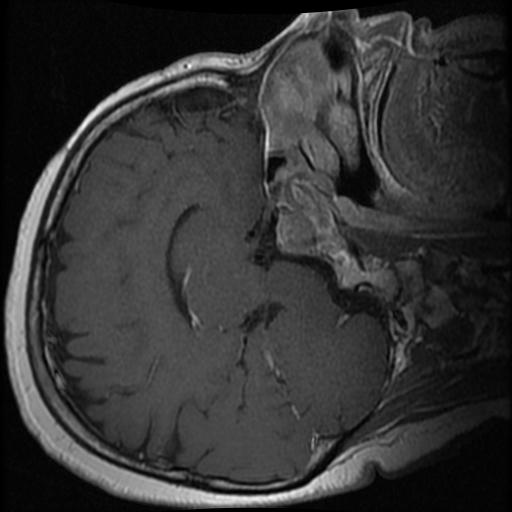pituitary tumour: (275, 212, 313, 257)
